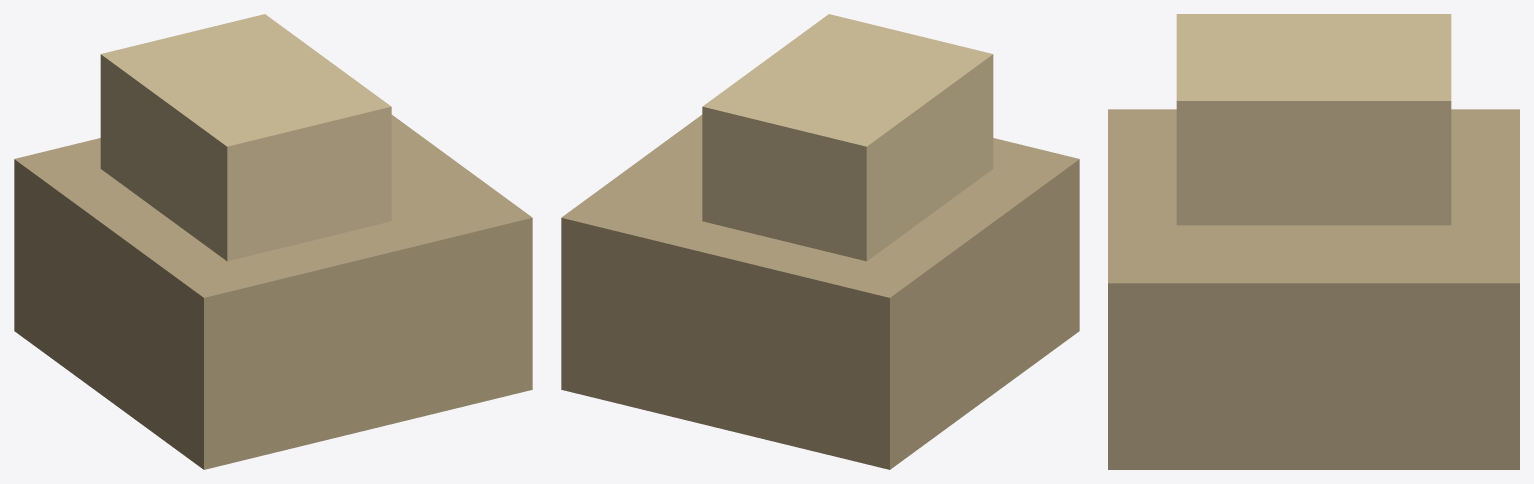
File: estante_pan_desgastado_01.glb
The picture shows the model from 3 angles, left to right: view 1: azimuth 30°, elevation 25°; view 2: azimuth 150°, elevation 25°; view 3: azimuth 270°, elevation 25°; orthographic projection. The views are drawn at different scales.
Parts seen in each view (by area): view 1: estante_pan_desgastado; view 2: estante_pan_desgastado; view 3: estante_pan_desgastado.
Boxes of the visible parts, x1,y1,x2,y2 form: estante_pan_desgastado: (14,14,532,469); estante_pan_desgastado: (561,14,1079,469); estante_pan_desgastado: (1108,14,1519,469).
Size of the model in its own units: 0.6 by 0.5 by 0.6.
